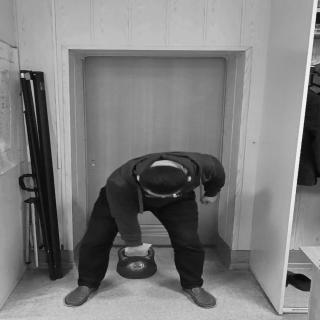kettlebell: (116, 246, 160, 281)
